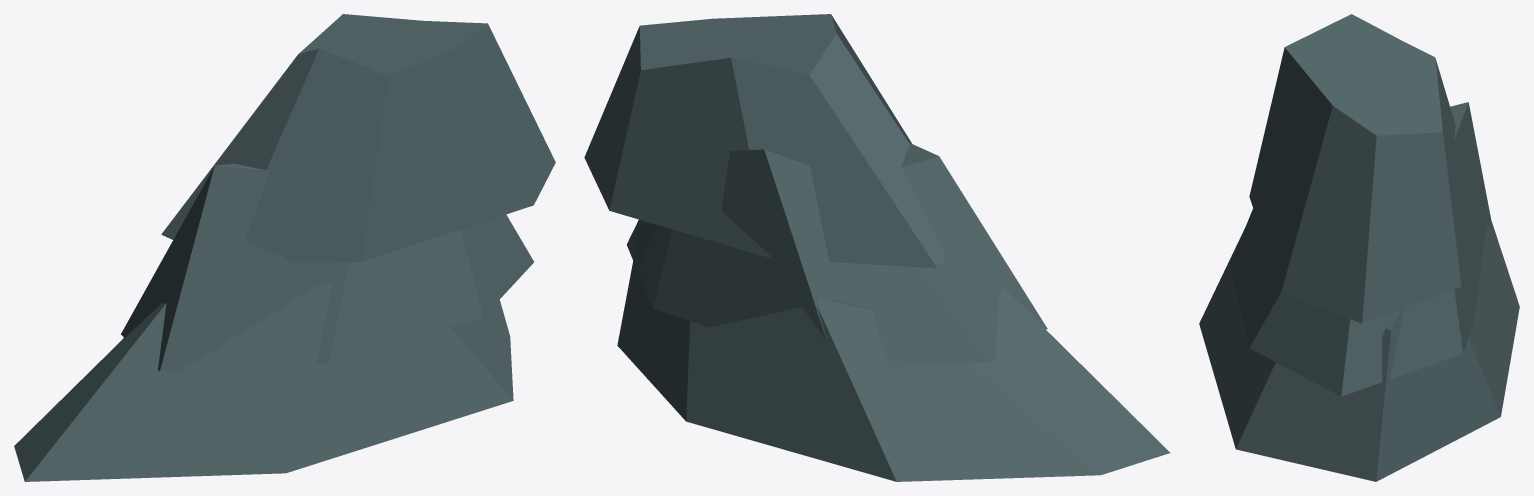
File: map-boundaries-v5__ridge_03.glb
3 renders of one model, left to right at view 1: azimuth 30°, elevation 25°; view 2: azimuth 150°, elevation 25°; view 3: azimuth 270°, elevation 25°, orthographic. The views are drawn at different scales.
Parts seen in each view (by area): view 1: ridge_03; view 2: ridge_03; view 3: ridge_03.
Part boxes in pixels (x1,y1,x2,y2): ridge_03: [14, 14, 555, 481]; ridge_03: [584, 14, 1170, 481]; ridge_03: [1199, 14, 1519, 481].
Bounding box in the file's own units: 1.57 × 0.9394 × 0.7503.
